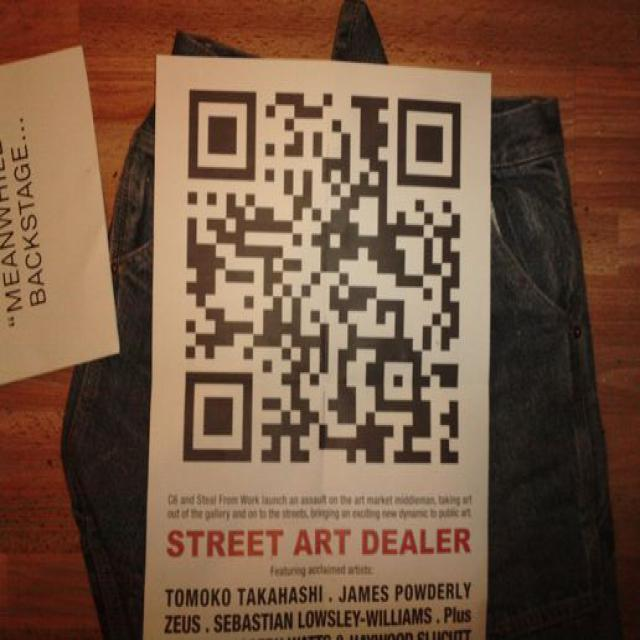qr_code: (183, 89, 461, 464)
